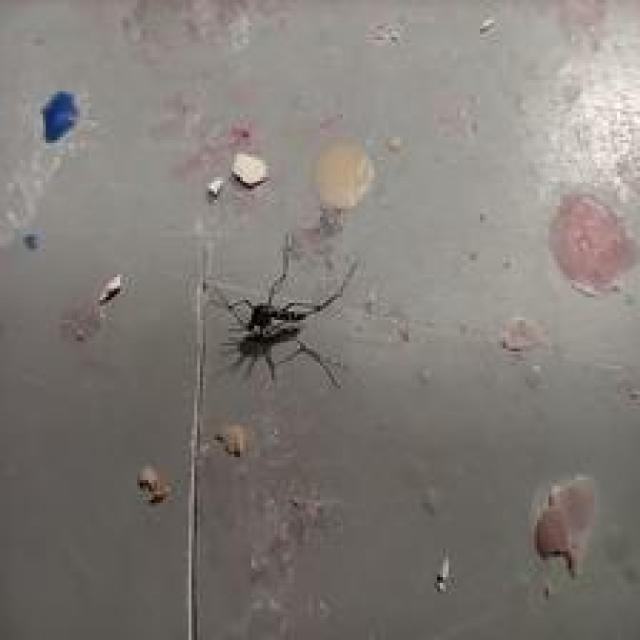Aedes albopictus: (206, 236, 360, 390)
